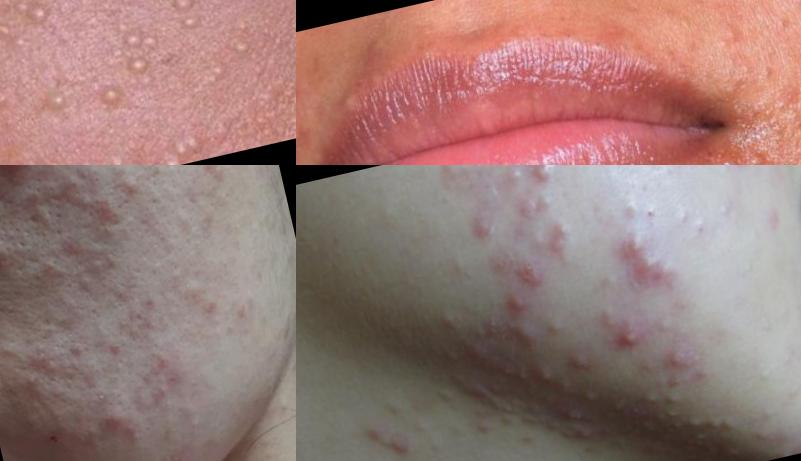blackhead: (39, 177, 66, 204), (85, 171, 112, 196), (61, 334, 86, 361), (65, 174, 86, 202)
cystic: (626, 247, 684, 298), (503, 311, 548, 363)
milium: (118, 19, 173, 86), (1, 1, 51, 37), (35, 83, 78, 123), (167, 130, 211, 163), (169, 1, 208, 36), (94, 79, 127, 115), (226, 33, 256, 64)
papular: (178, 200, 230, 239), (94, 398, 131, 440), (109, 166, 149, 204), (514, 258, 550, 294), (297, 87, 313, 143), (150, 347, 178, 376), (136, 289, 164, 315), (159, 366, 184, 393), (19, 370, 46, 394), (197, 295, 222, 320), (199, 166, 229, 183), (104, 337, 127, 359), (185, 413, 206, 434), (1, 234, 11, 268)
purulent: (546, 217, 576, 264), (497, 277, 533, 316), (463, 213, 496, 250), (616, 224, 652, 257), (529, 166, 565, 190), (619, 326, 645, 353)
sebo-crystan-conglo: (662, 338, 706, 374), (518, 256, 550, 292), (728, 166, 758, 177)
whitehead: (61, 231, 124, 305), (665, 396, 740, 453), (648, 405, 688, 446), (640, 379, 685, 412), (425, 382, 461, 412), (513, 409, 548, 435), (435, 312, 466, 340), (581, 385, 607, 408), (498, 361, 520, 387), (758, 402, 778, 430), (217, 317, 239, 342), (744, 147, 771, 166), (534, 367, 556, 390), (715, 151, 741, 166), (683, 160, 710, 166)
